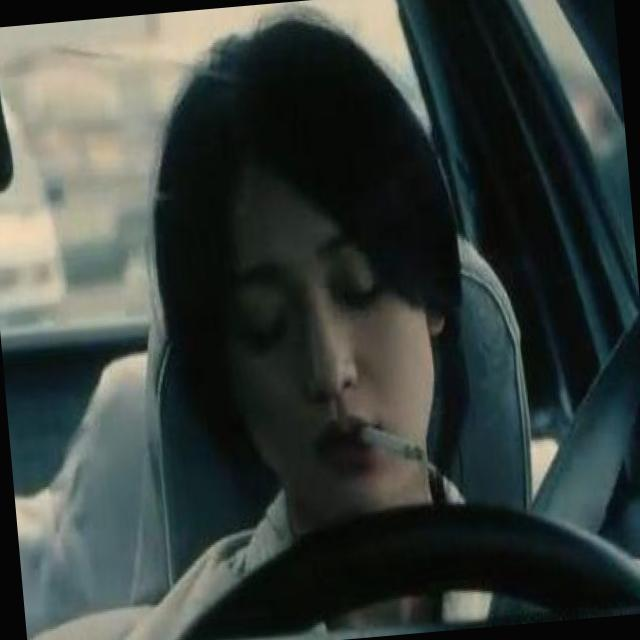smoke: (356, 418, 424, 474)
